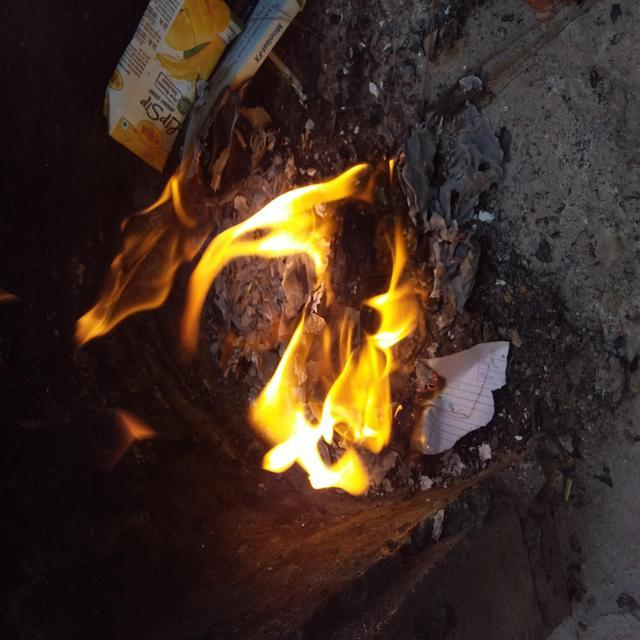Fire: (81, 110, 448, 498)
